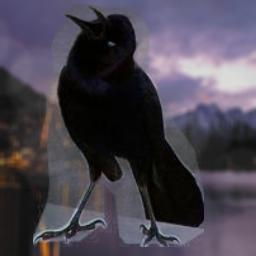Crow: (33, 4, 204, 247)
